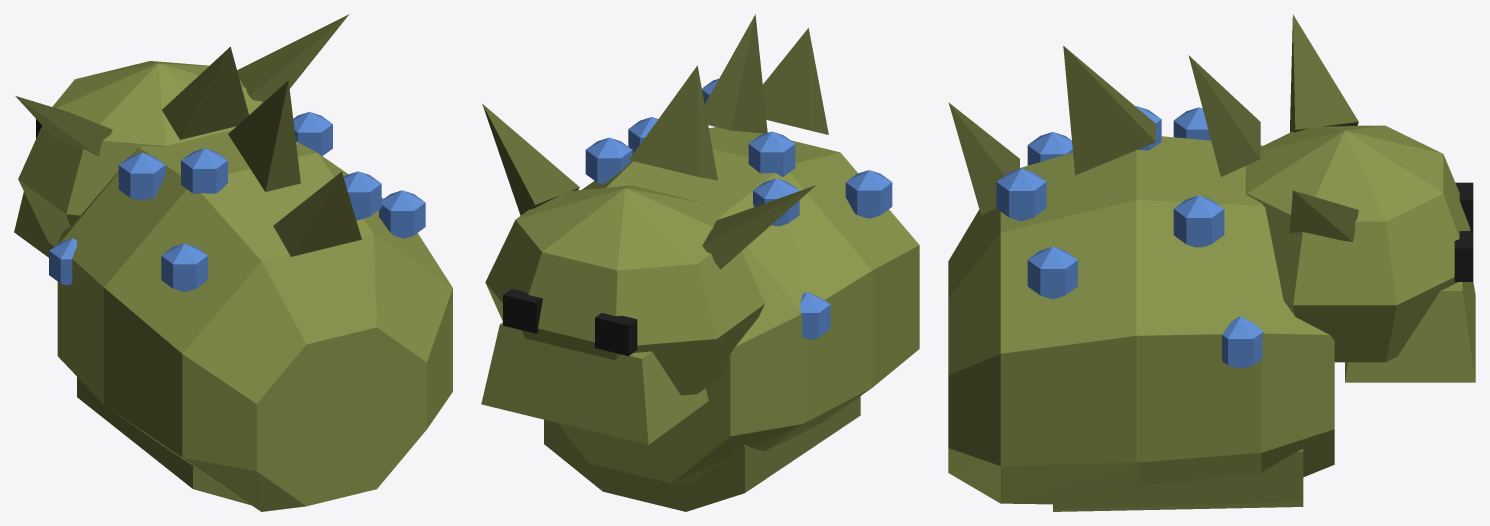
Rendered from animal_dryad_berrymaker.obj.
3 views of the same model, side by side, from view 1: azimuth 30°, elevation 25°; view 2: azimuth 150°, elevation 25°; view 3: azimuth 270°, elevation 25° (orthographic). The views are drawn at different scales.
Visible parts, largest first — view 1: animal_dryad_berrymaker; view 2: animal_dryad_berrymaker; view 3: animal_dryad_berrymaker.
Boxes of the visible parts, box(x1,y1,x2,y2) form: animal_dryad_berrymaker: box(14, 14, 452, 511); animal_dryad_berrymaker: box(481, 14, 919, 511); animal_dryad_berrymaker: box(948, 14, 1475, 511).
Size of the model in its own units: 0.546 by 0.6416 by 0.6893.
